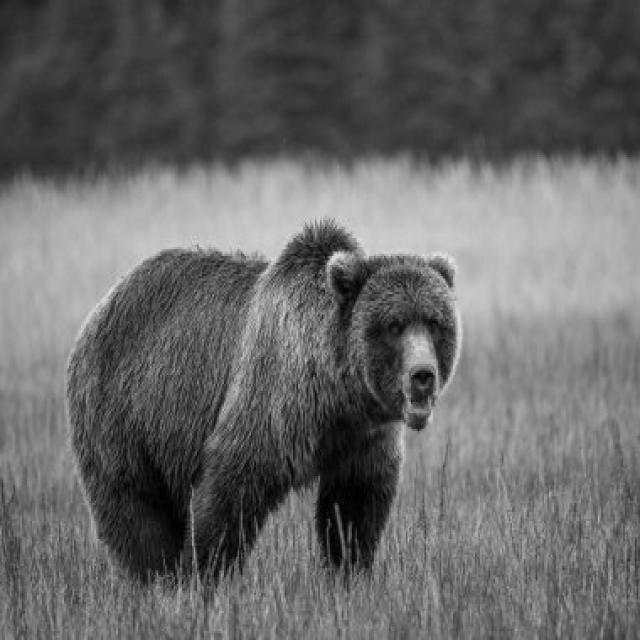Animal: (70, 222, 459, 578)
